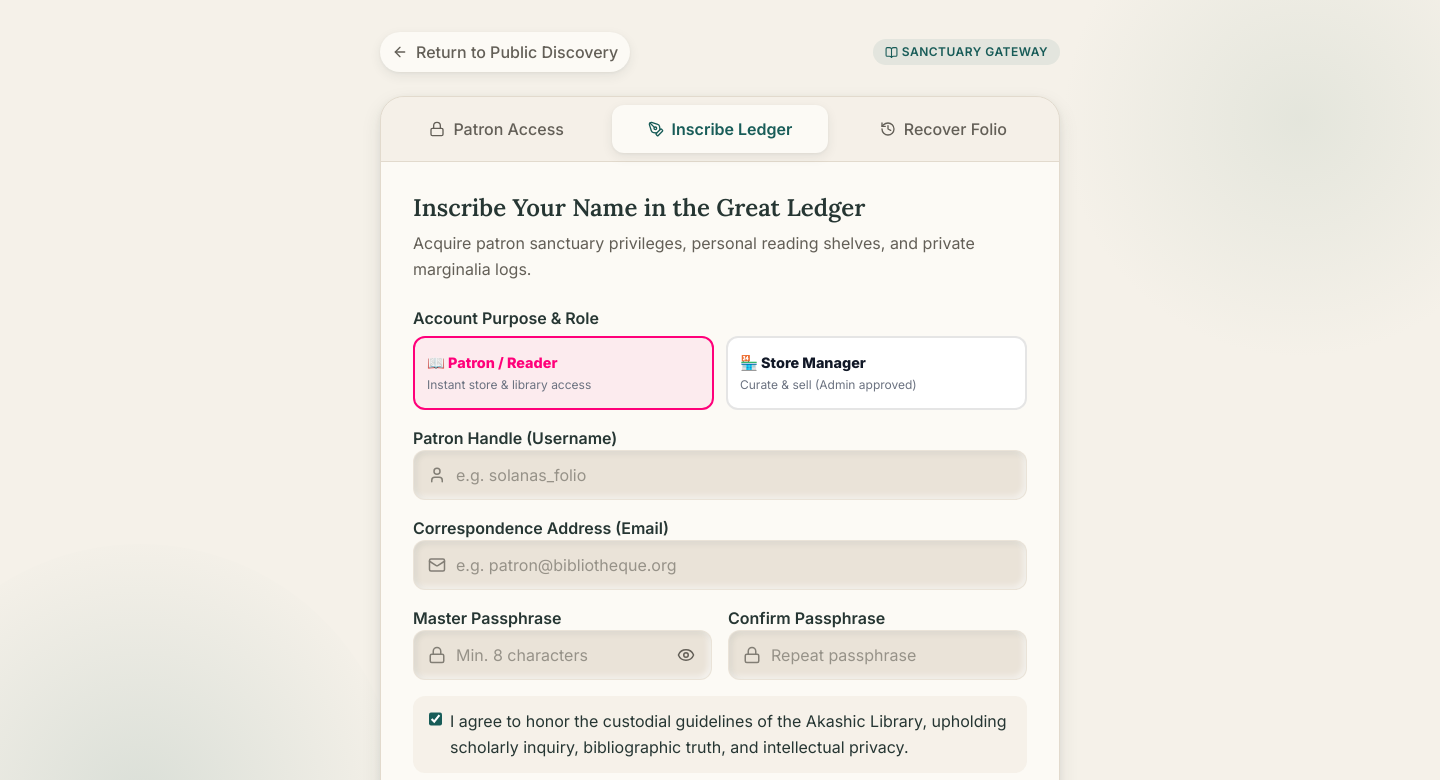
Test: AuthPage — Patron Authentication Hub › 8. displays error if the patron archival vow is unchecked
This screenshot has width=1440, height=780.
Step 1. Type "newpatron" into the field labelled "Patron Handle (Username)" → (720, 475), box [414,451,1026,499]
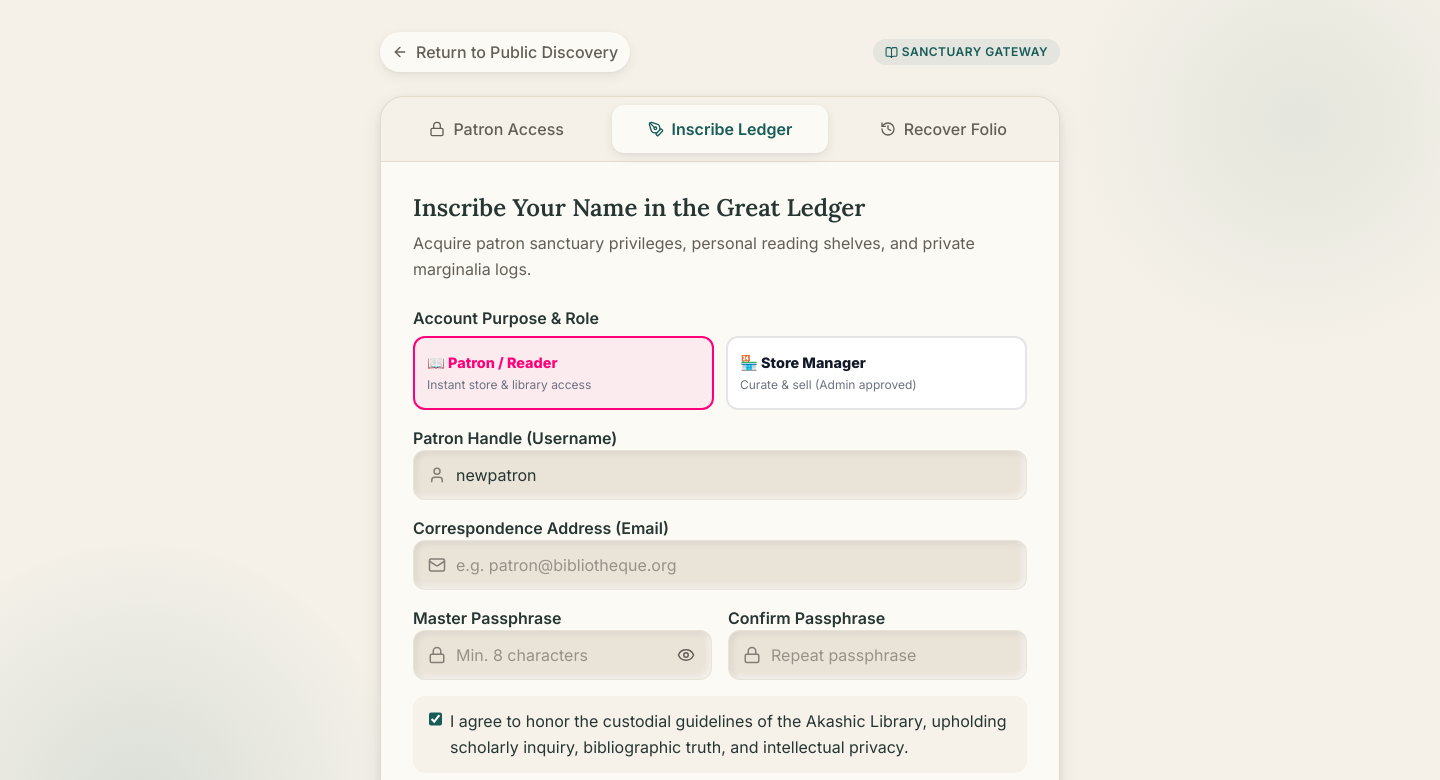
Step 2. Type "new@akashic.org" into the field labelled "Correspondence Address (Email)" → (720, 565), box [414,541,1026,589]
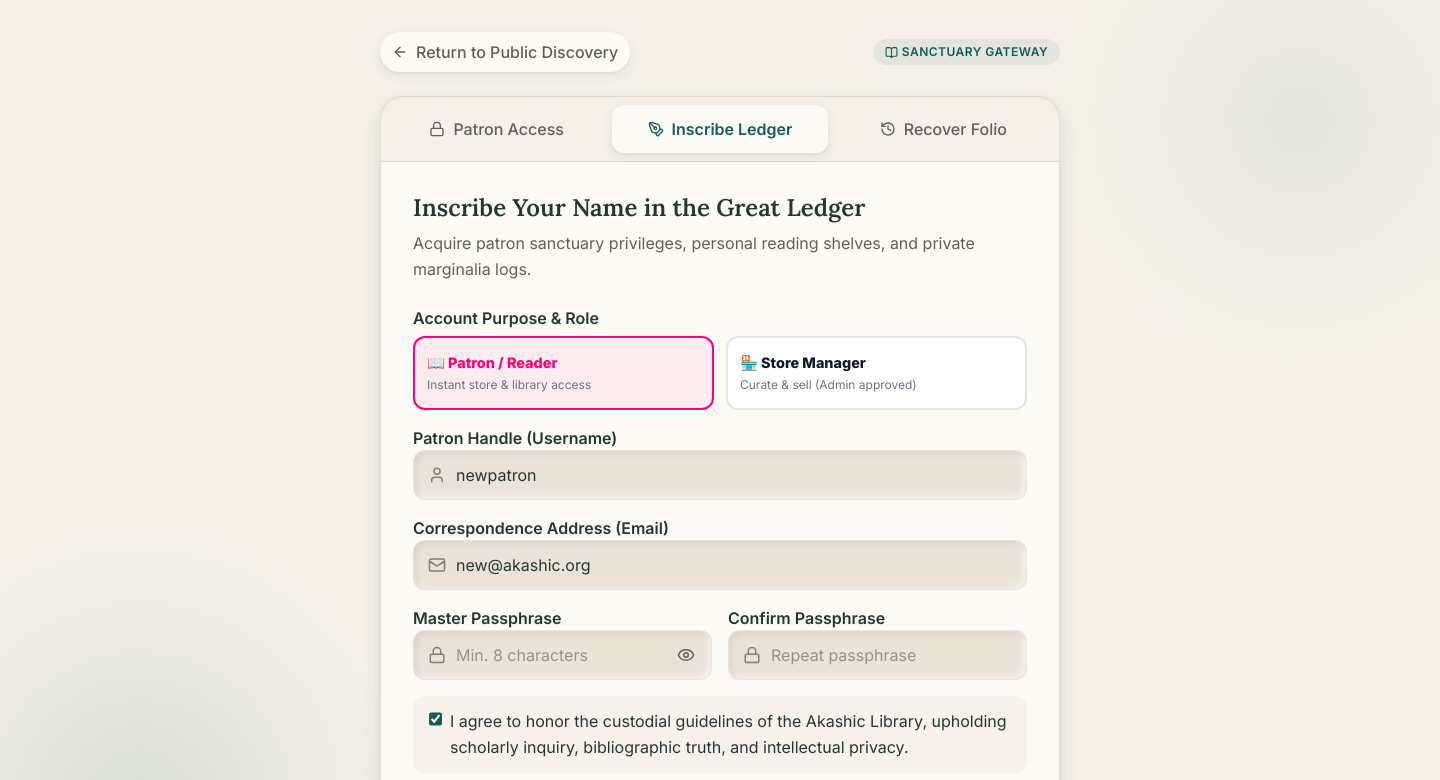
Step 3. Type "ValidPass123" into the password field labelled "Master Passphrase" → (562, 655), box [414,631,711,679]
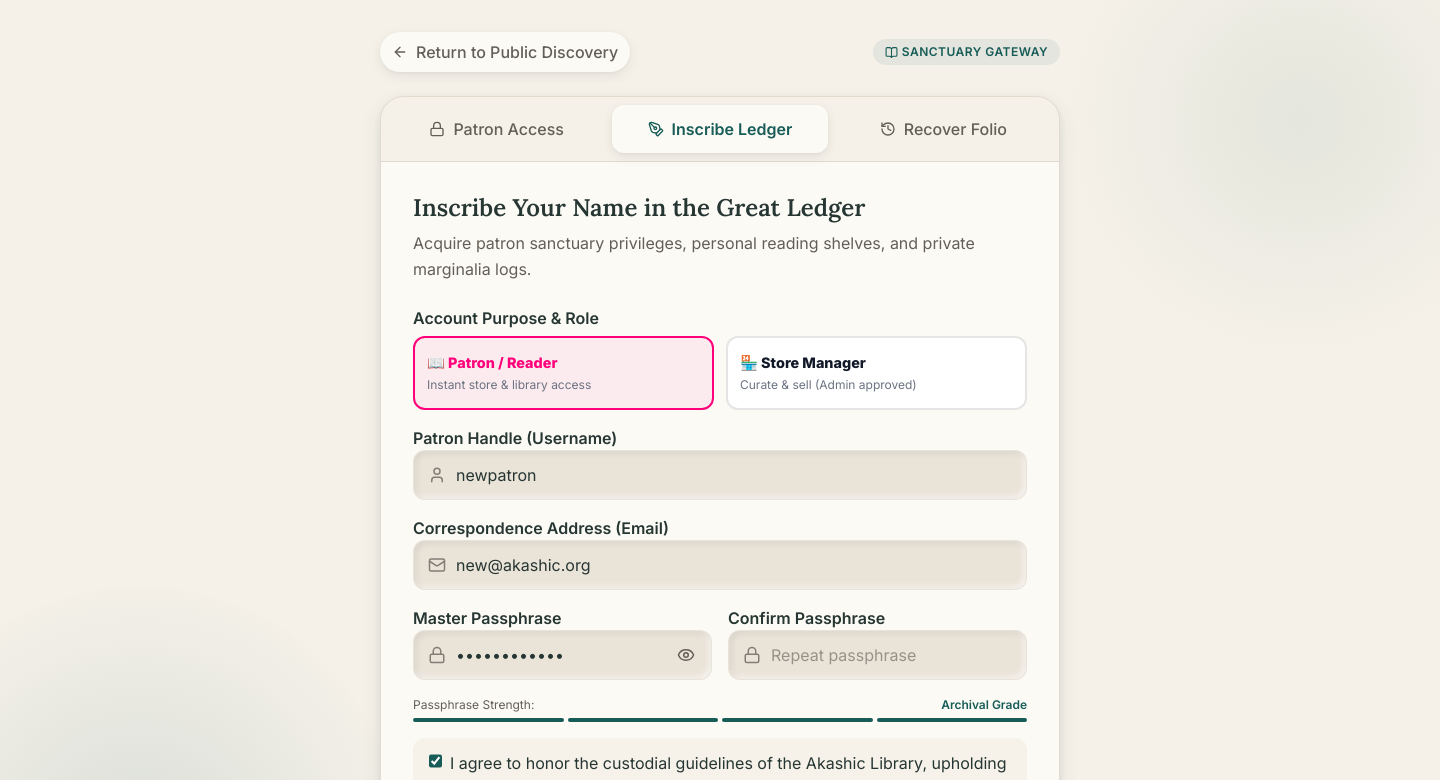
Step 4. Type "ValidPass123" into the password field labelled "Confirm Passphrase" → (878, 655), box [729,631,1026,679]
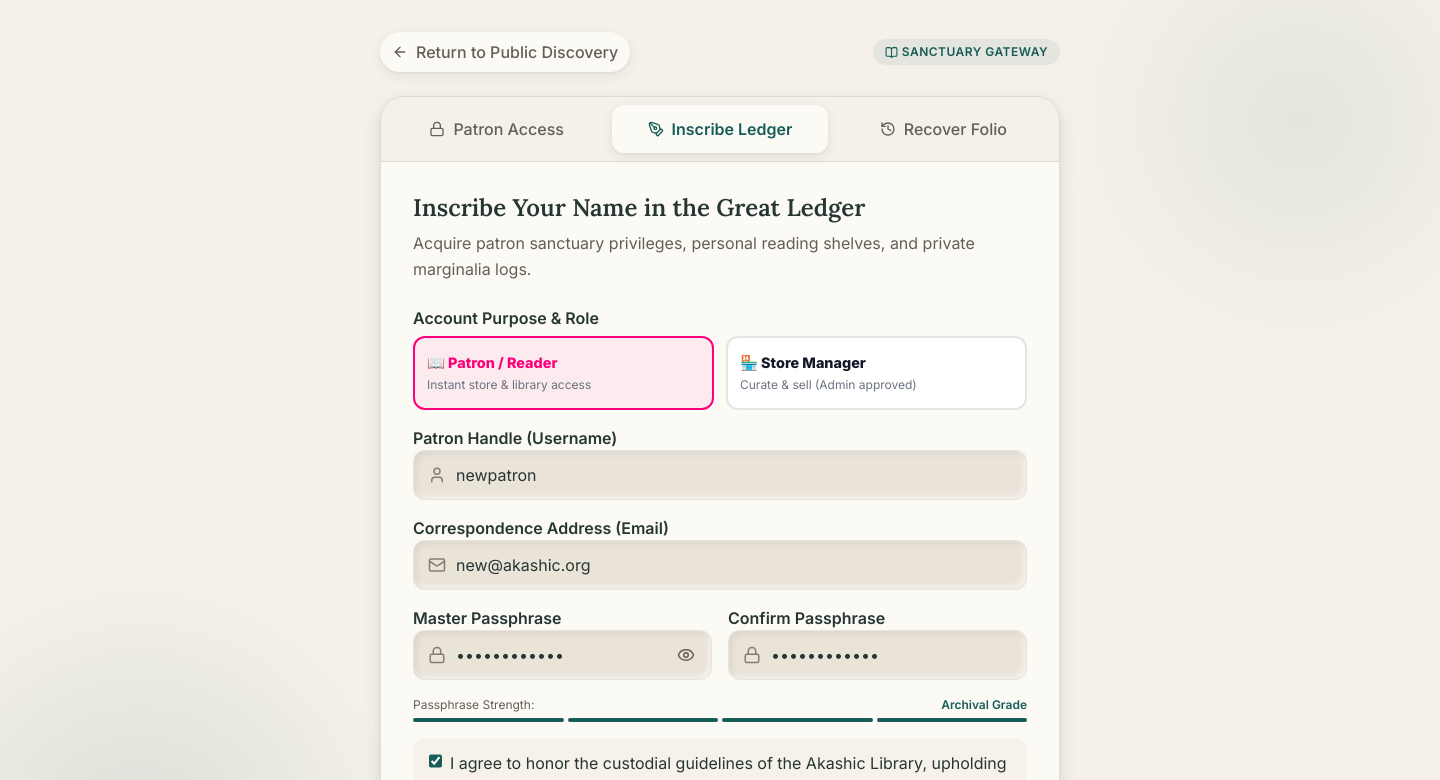
Step 5. Click the checkbox → (436, 761), box [429,753,442,769]
(page scrolled)
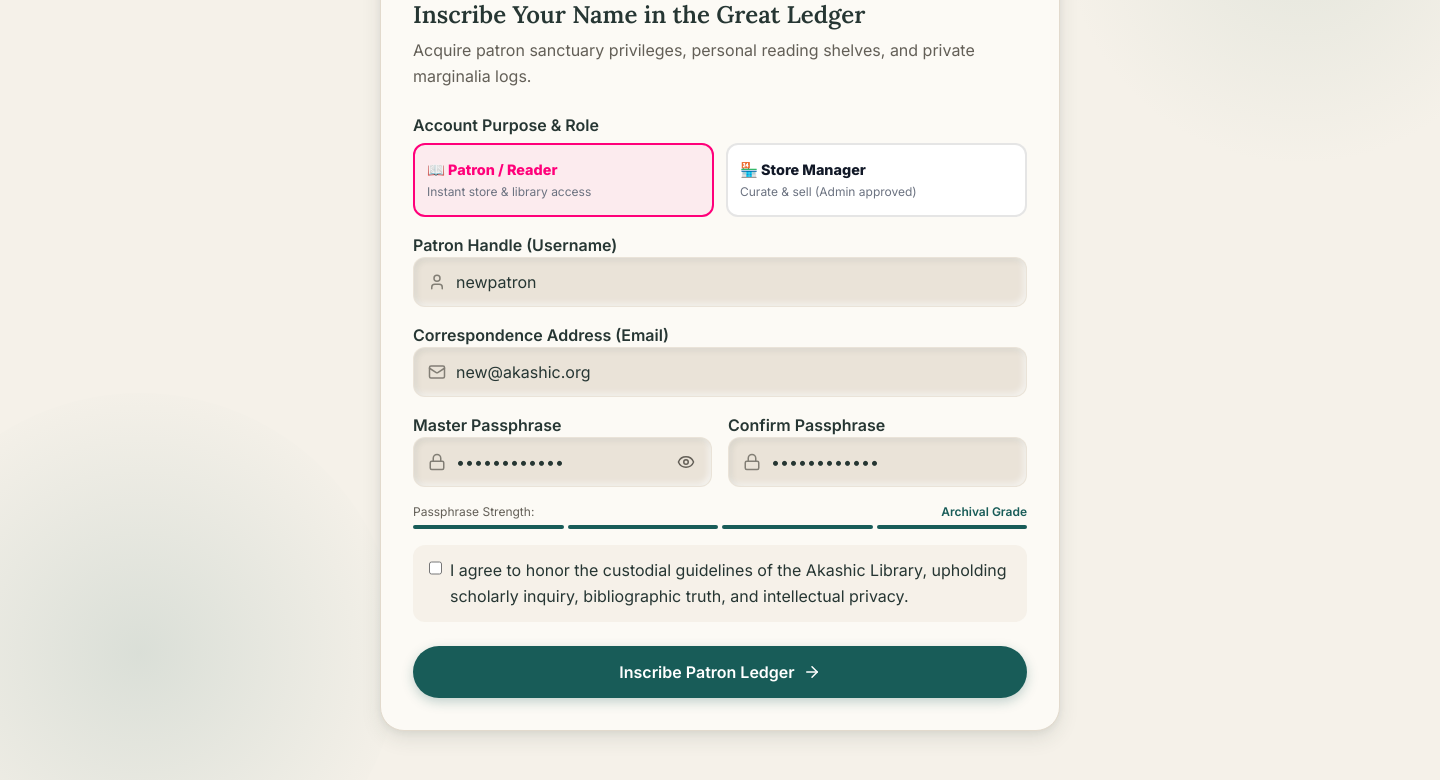
Step 6. Submit the form named "Inscribe Patron Ledger", box [413,113,1027,698]
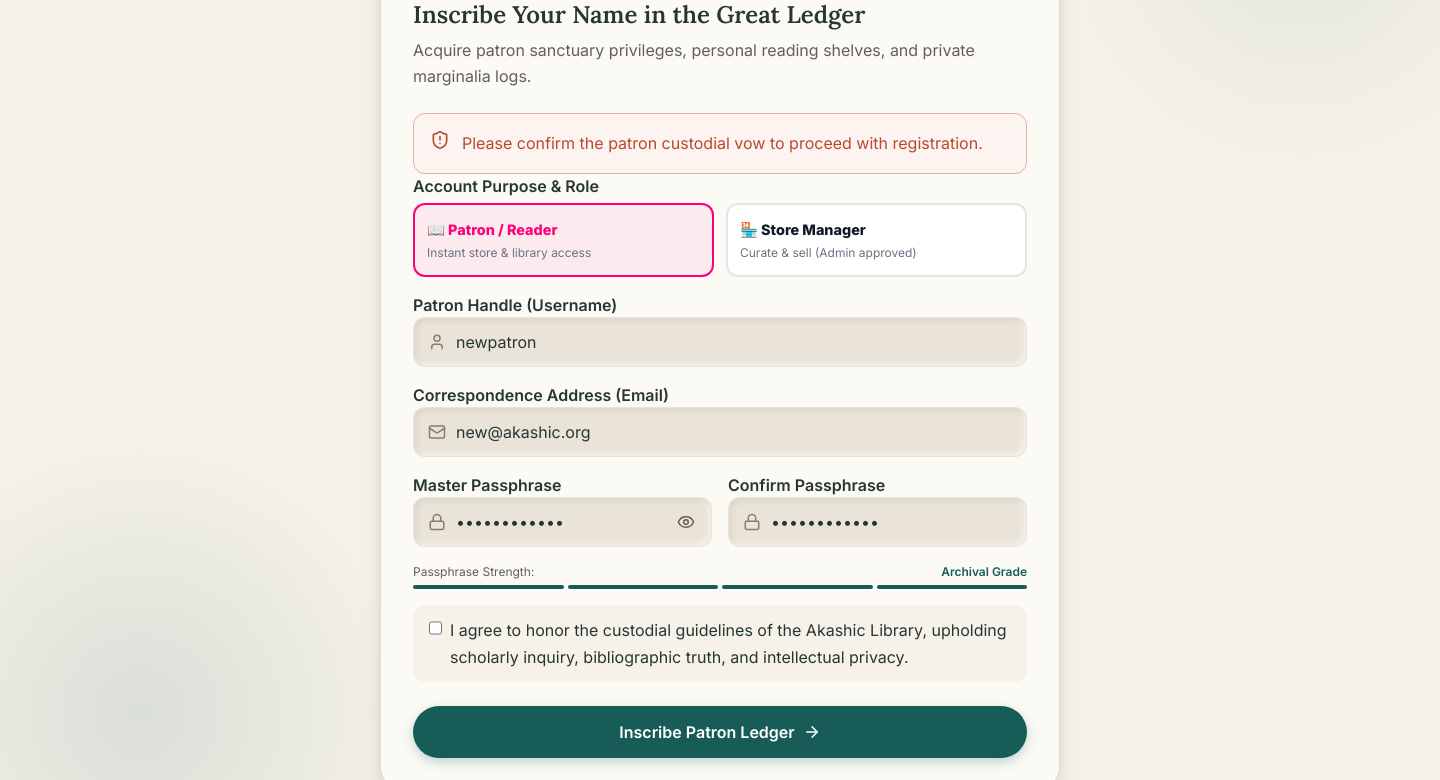
Expected: the text "Please confirm the patron custodial vow to proceed with registration." is shown, [462,130,983,157]
